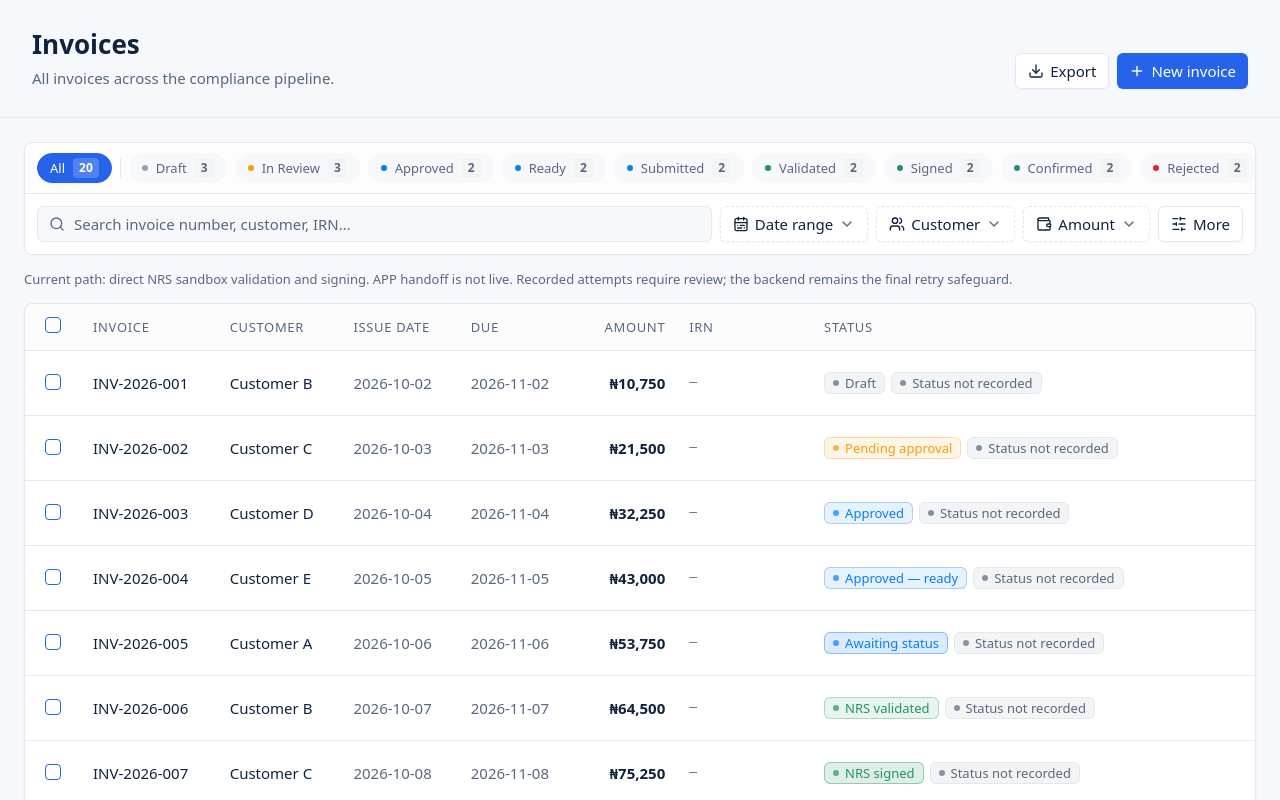
Invoices Page Workflow › 1. URL-driven status filtering › clicking a status pill updates the active status filter
The image size is (1280, 800).
Click the button "In Review 3" at {"x": 297, "y": 168}, box 235,152 -> 360,182
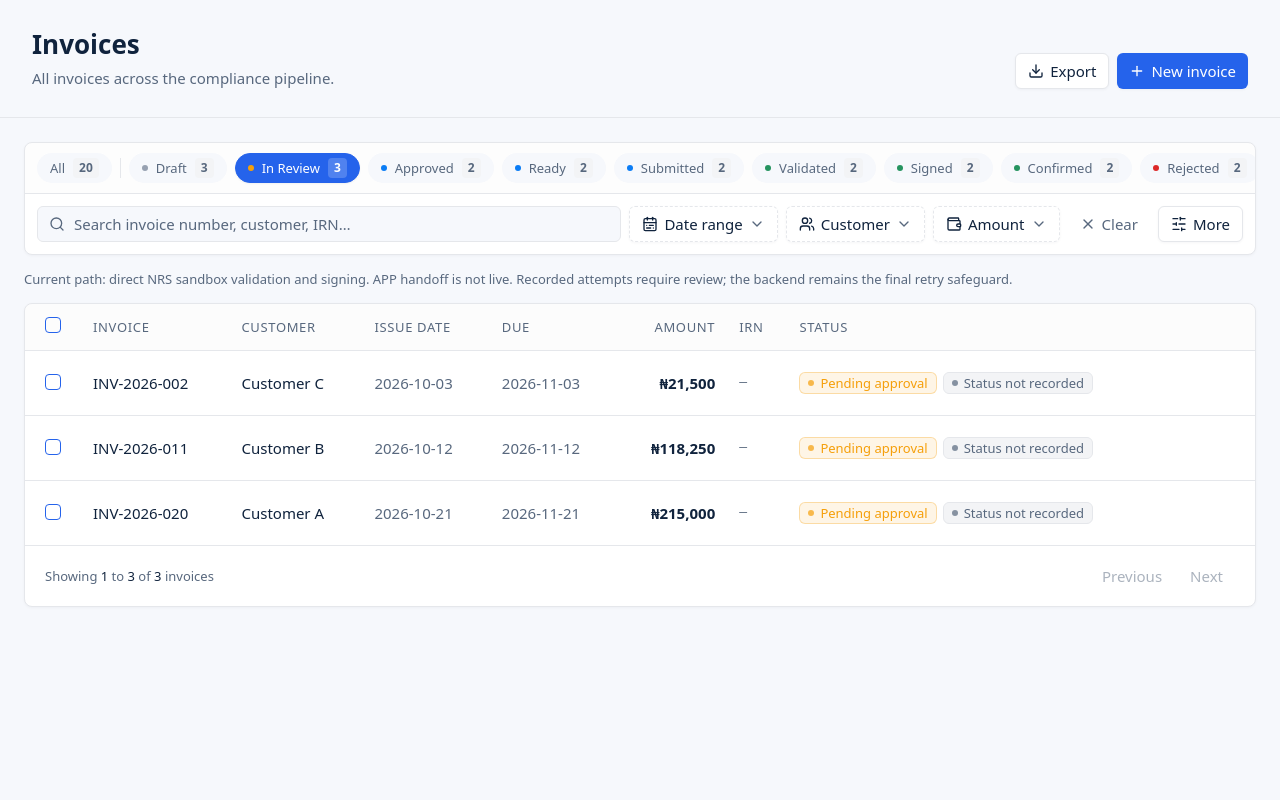
Expected: the link "INV-2026-002" is shown, 93,372 -> 188,392
Now the link "INV-2026-020" is shown, box 93,502 -> 188,522
